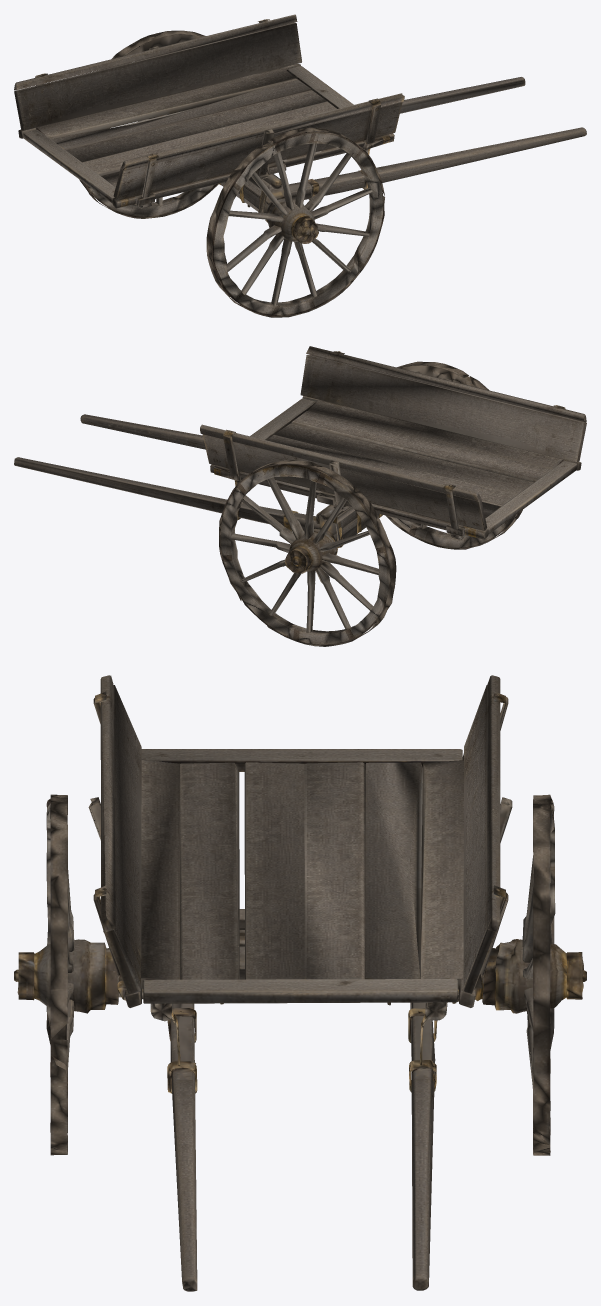
File: des-cart-intact.fbx
The picture shows the model from 3 angles, top to bottom: view 1: azimuth 30°, elevation 25°; view 2: azimuth 150°, elevation 25°; view 3: azimuth 270°, elevation 25°; orthographic projection. The views are drawn at different scales.
Visible parts, largest first — view 1: Mesh_0; view 2: Mesh_0; view 3: Mesh_0.
Part boxes in pixels (x1,y1,x2,y2): Mesh_0: [14, 14, 586, 317]; Mesh_0: [14, 346, 586, 646]; Mesh_0: [14, 675, 586, 1291].
Bounding box in the file's own units: 94.38 × 33.69 × 53.27.
Materials: 1 (1 with a texture image).
